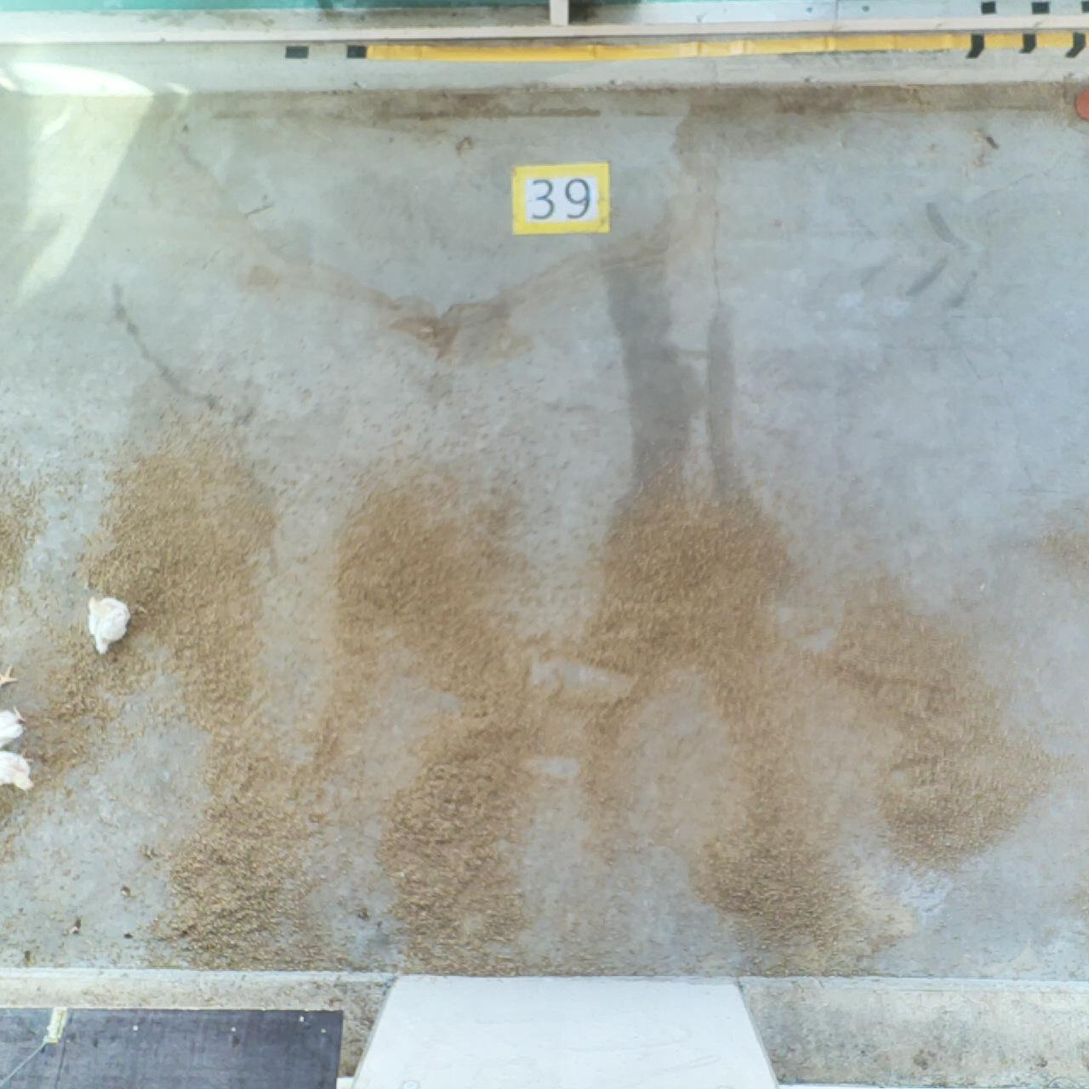chicken: (76, 588, 133, 656), (0, 750, 41, 801), (0, 703, 30, 751)
